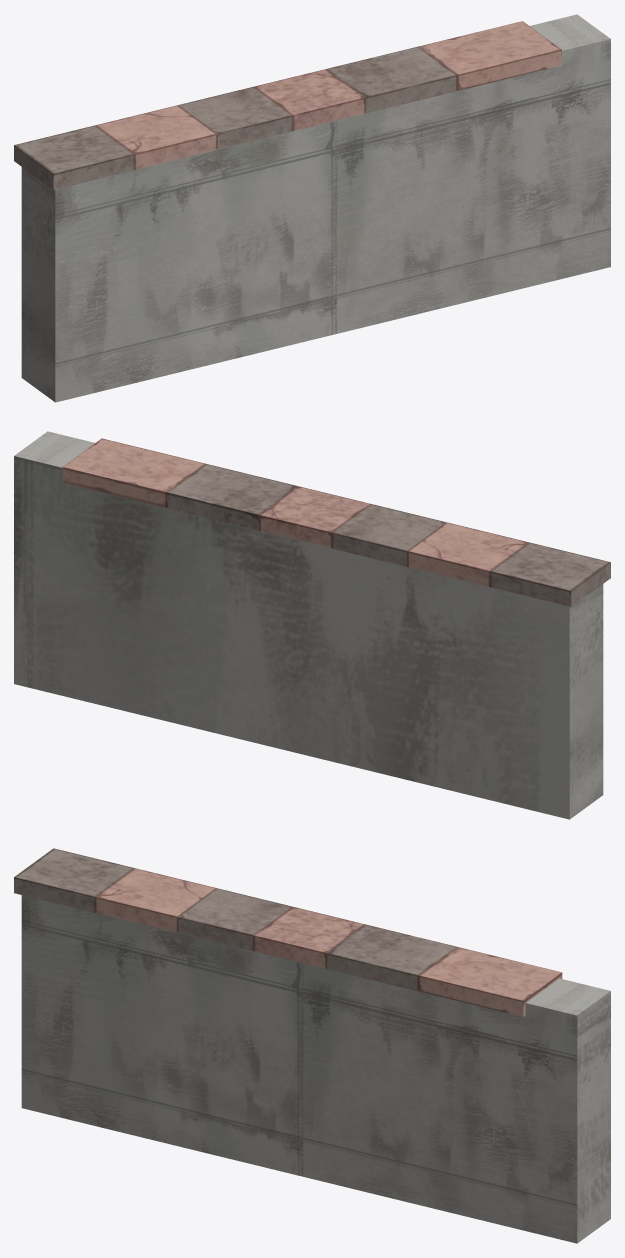
Rendered from wall_10.fbx.
3 renders of one model, top to bottom at view 1: azimuth 30°, elevation 25°; view 2: azimuth 150°, elevation 25°; view 3: azimuth 330°, elevation 25°, orthographic.
Visible parts, largest first — view 1: Object128; view 2: Object128; view 3: Object128.
Part boxes in pixels (<box>): Object128: <box>14,14,610,402</box>; Object128: <box>14,431,610,819</box>; Object128: <box>14,848,610,1243</box>.
Size of the model in its own units: 720 by 285 by 88.1.
